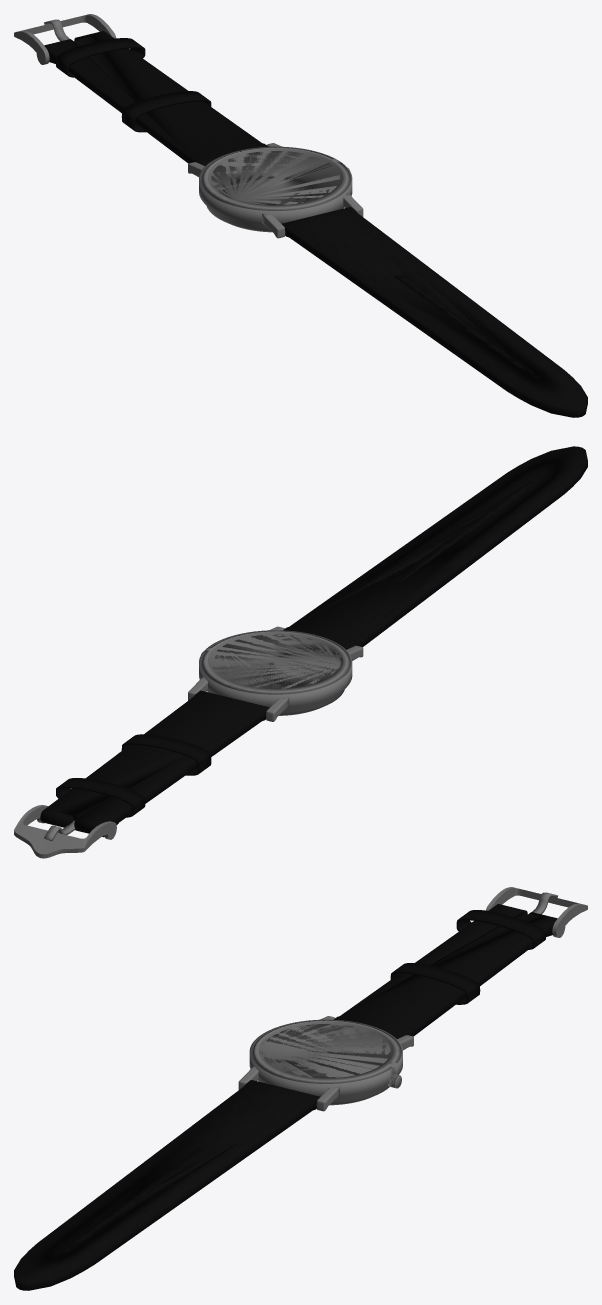
The model's file is watch.obj.
The picture shows the model from 3 angles, top to bottom: view 1: azimuth 30°, elevation 25°; view 2: azimuth 150°, elevation 25°; view 3: azimuth 330°, elevation 25°; orthographic projection.
Parts seen in each view (by area): view 1: Watch, Gesp_1; view 2: Watch, Gesp_1; view 3: Watch, Gesp_1.
Boxes of the visible parts, x1,y1,x2,y2 form: Watch: (44,31,587,417); Gesp_1: (14,14,116,64); Watch: (40,446,587,837); Gesp_1: (14,805,116,858); Watch: (14,904,557,1290); Gesp_1: (486,887,587,937).
Size of the model in its own units: 35.5 by 7.69 by 239.
